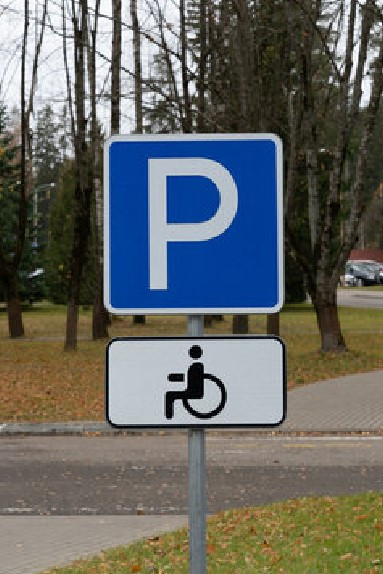Parking: (100, 132, 285, 317)
